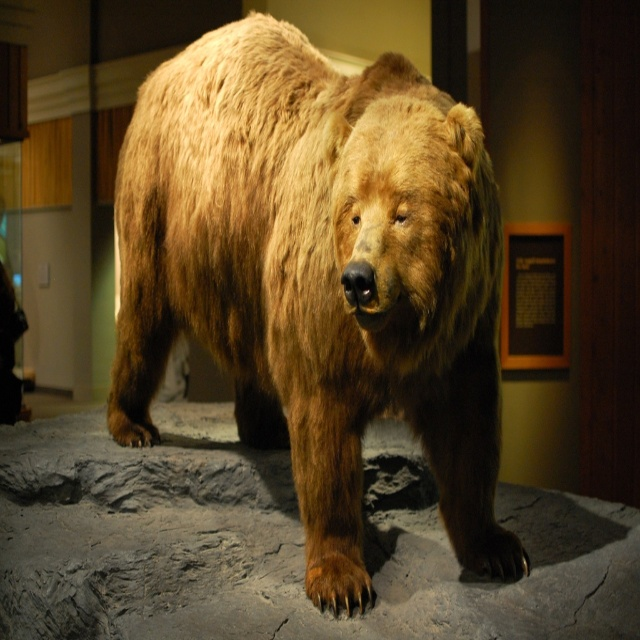Brown bear: (104, 8, 532, 621)
